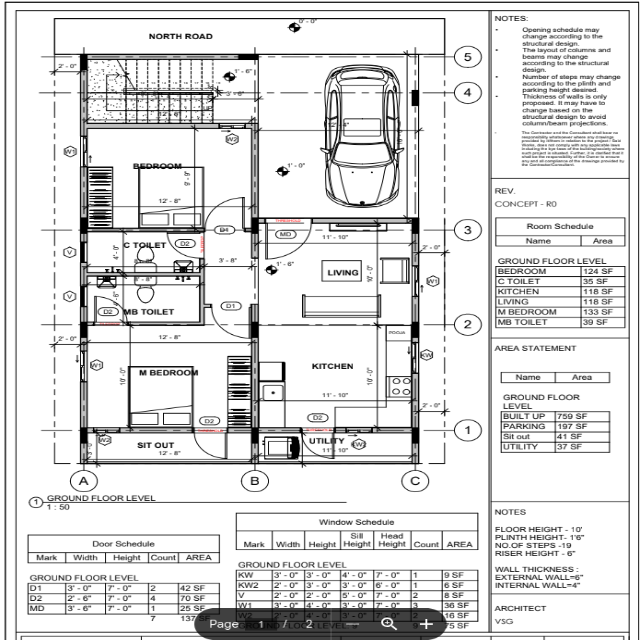door: (264, 219, 314, 261), (201, 194, 247, 232), (210, 304, 253, 339), (192, 428, 229, 462), (167, 230, 204, 262), (299, 428, 336, 460), (93, 294, 129, 325)
